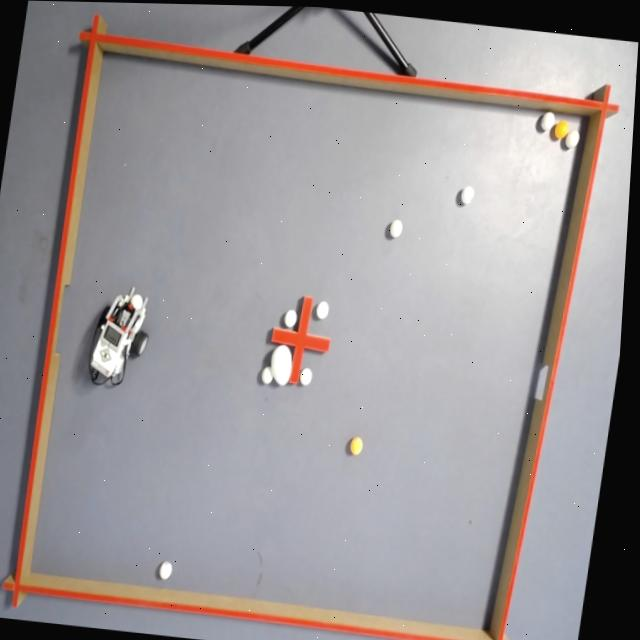boundaries: (0, 10, 618, 640), (29, 52, 587, 628)
cross: (269, 294, 330, 383)
large_goal: (44, 274, 73, 358)
orange_ball: (347, 435, 363, 455), (552, 117, 568, 137)
robot: (81, 279, 156, 391)
small_goal: (531, 358, 556, 405)
white_ball: (154, 555, 173, 581), (562, 127, 580, 149), (313, 297, 330, 319), (386, 216, 403, 238), (458, 182, 475, 203), (538, 108, 555, 129), (258, 364, 275, 384), (281, 308, 298, 327), (297, 364, 312, 385)
